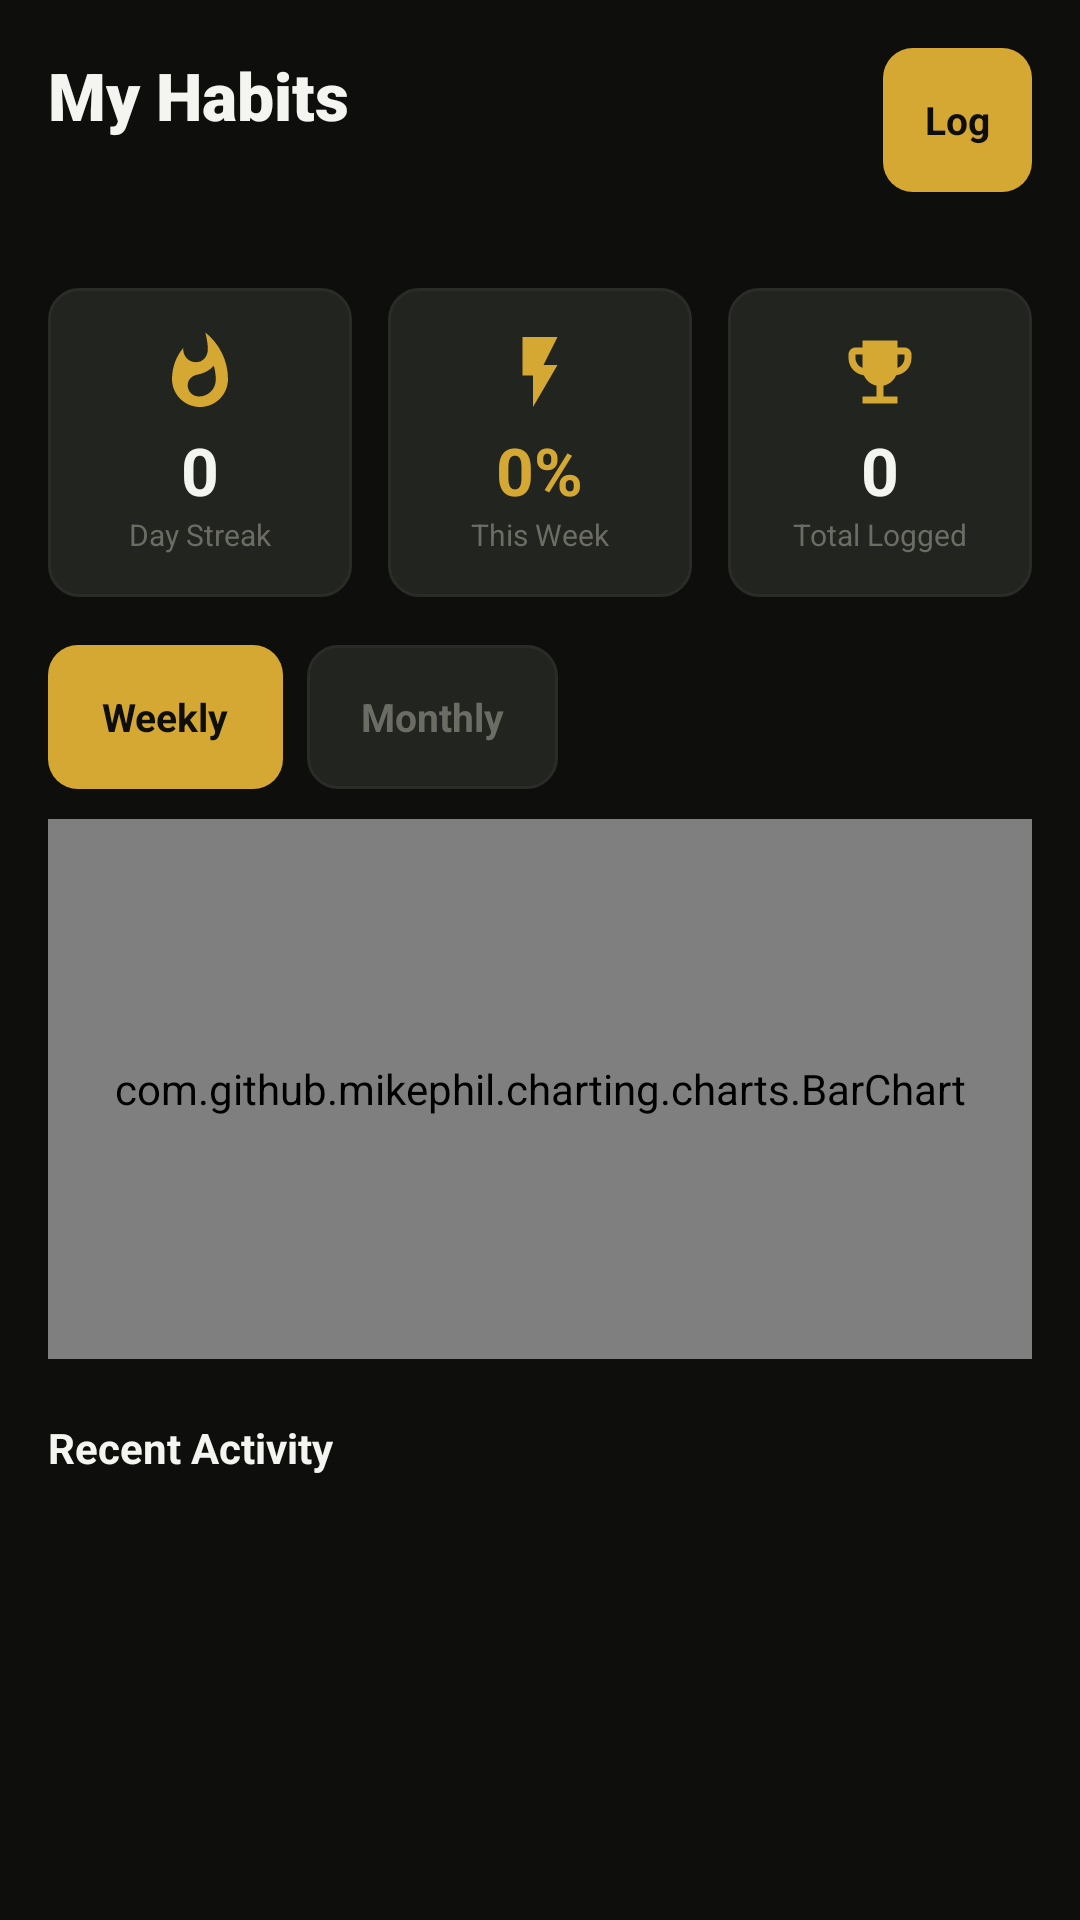

Where icons sit on this 1080x1920 app screen, as (x1, y1, x2, y2):
trophy: (848, 340, 912, 404)
